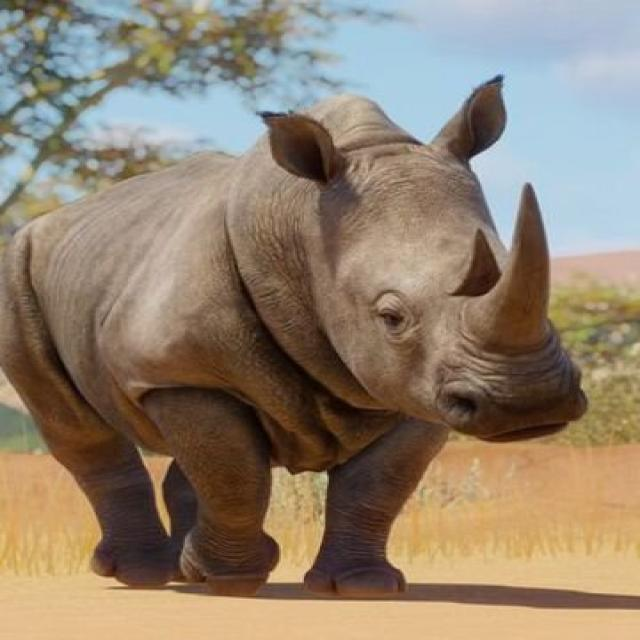Rinoceros: (0, 70, 589, 592)
